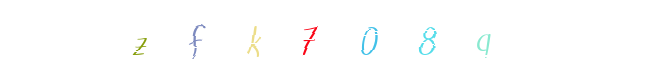0: (282, 0, 362, 80)
7: (269, 0, 349, 80)
8: (359, 0, 439, 80)
F: (155, 0, 235, 80)
K: (203, 0, 283, 80)
Q: (363, 0, 443, 80)
Z: (100, 0, 180, 80)
